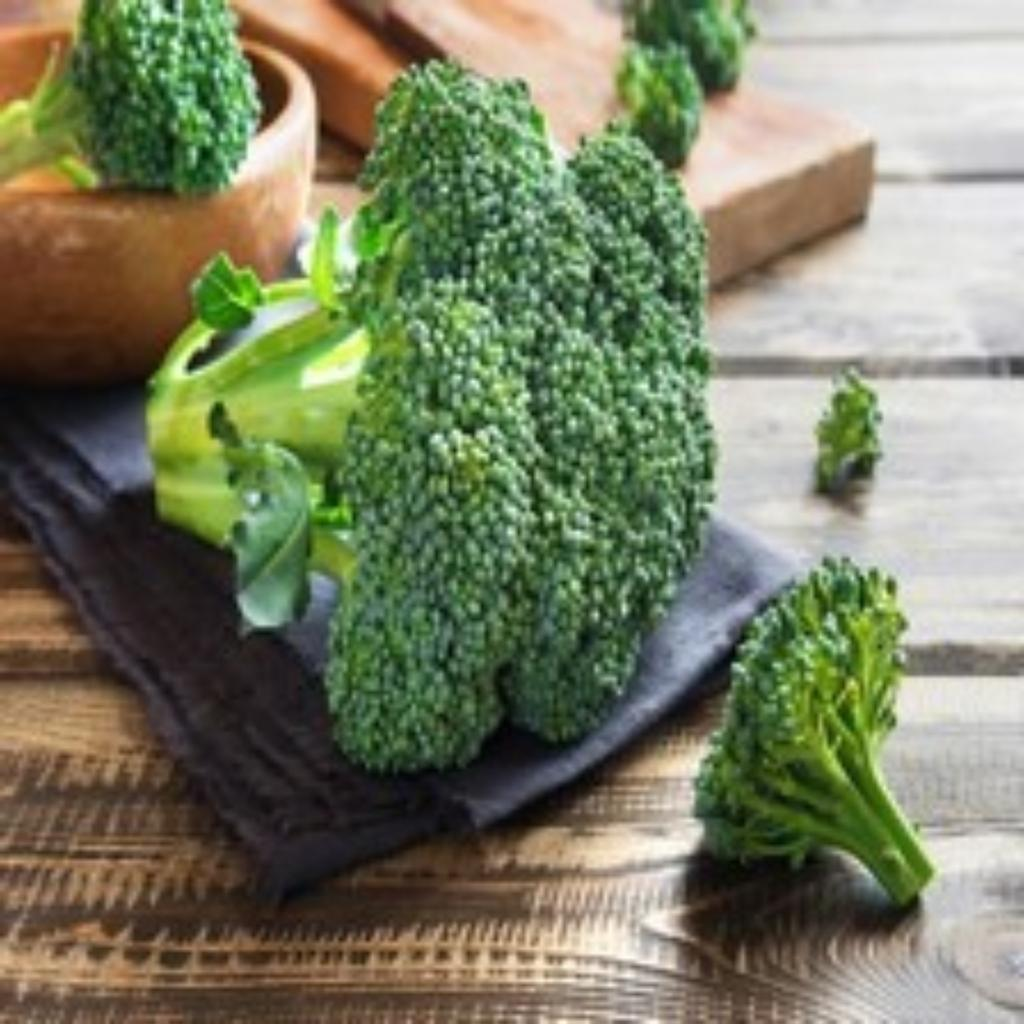Broccoli: (326, 62, 716, 771), (328, 62, 716, 771), (696, 558, 934, 907), (696, 558, 934, 905), (72, 0, 260, 193), (72, 0, 260, 193), (616, 42, 704, 168)
